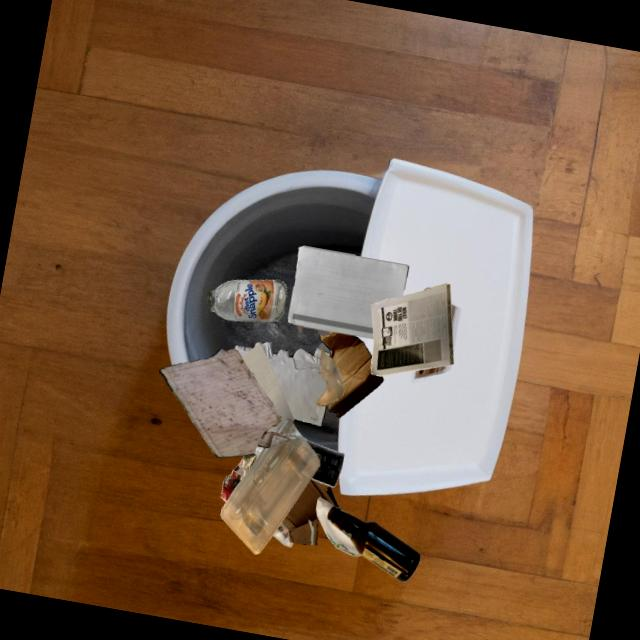cardboard: (319, 331, 383, 417), (281, 478, 343, 545)
glass: (327, 506, 420, 582), (206, 280, 287, 322), (315, 346, 343, 406), (314, 328, 329, 335), (296, 324, 303, 333)
paper: (159, 348, 289, 457), (288, 245, 409, 339), (234, 342, 326, 426), (370, 283, 453, 376), (241, 344, 294, 432), (255, 456, 297, 529), (316, 497, 362, 556), (219, 453, 255, 501), (297, 439, 320, 484), (280, 522, 287, 529)
plastic: (220, 417, 320, 554), (304, 439, 344, 487)
